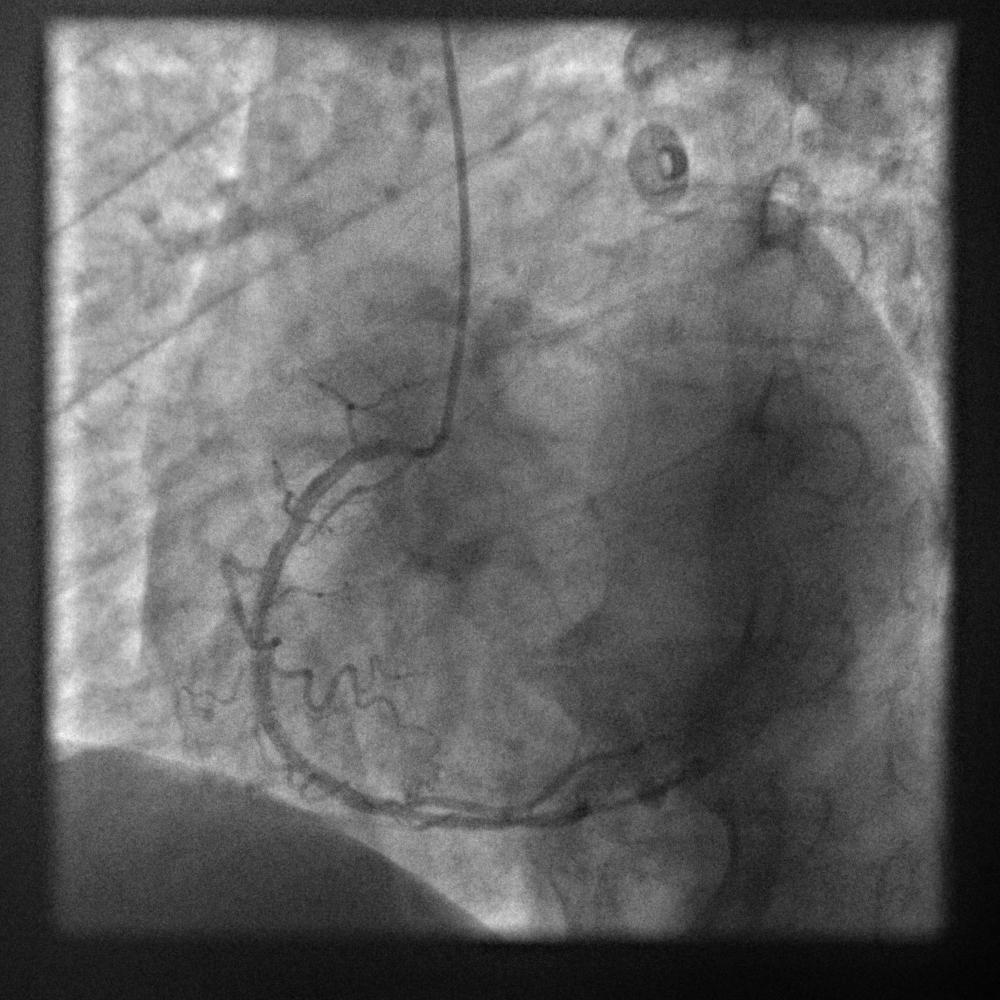Stenosis: (266, 508, 308, 557)
